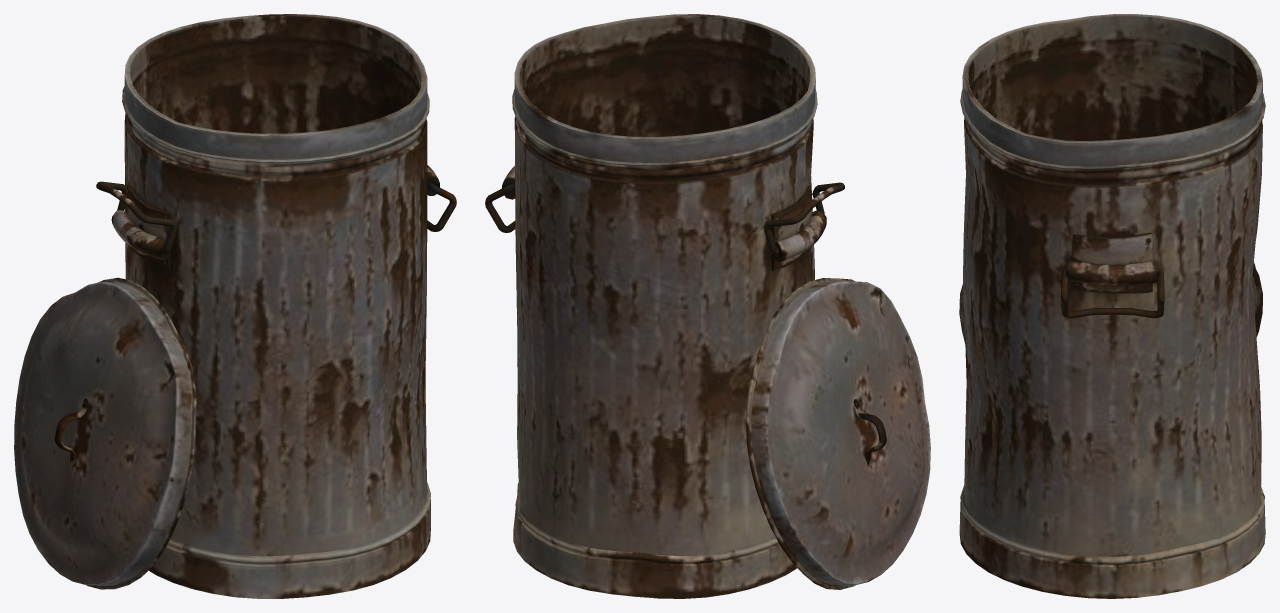
The model's file is trash_can_rusty.glb.
3 renders of one model, left to right at view 1: azimuth 30°, elevation 25°; view 2: azimuth 150°, elevation 25°; view 3: azimuth 270°, elevation 25°, orthographic.
Parts seen in each view (by area): view 1: metal_trash_can_rust, metal_trash_can_rust_lid, metal_trash_can_rust_handle_left, metal_trash_can_rust_handle_right; view 2: metal_trash_can_rust, metal_trash_can_rust_lid, metal_trash_can_rust_handle_left, metal_trash_can_rust_handle_right; view 3: metal_trash_can_rust, metal_trash_can_rust_handle_right, metal_trash_can_rust_lid.
Boxes of the visible parts, <box> form: metal_trash_can_rust: <box>111,14,439,598</box>; metal_trash_can_rust_lid: <box>14,277,196,589</box>; metal_trash_can_rust_handle_left: <box>96,181,177,254</box>; metal_trash_can_rust_handle_right: <box>427,182,456,231</box>; metal_trash_can_rust: <box>502,14,826,598</box>; metal_trash_can_rust_lid: <box>746,278,930,589</box>; metal_trash_can_rust_handle_left: <box>764,182,844,255</box>; metal_trash_can_rust_handle_right: <box>485,183,515,232</box>; metal_trash_can_rust: <box>959,14,1265,598</box>; metal_trash_can_rust_handle_right: <box>1061,267,1164,318</box>; metal_trash_can_rust_lid: <box>959,262,1262,343</box>.
Bounding box in the file's own units: 0.7733 × 0.9062 × 0.5486.
1 material, 1 textured.
